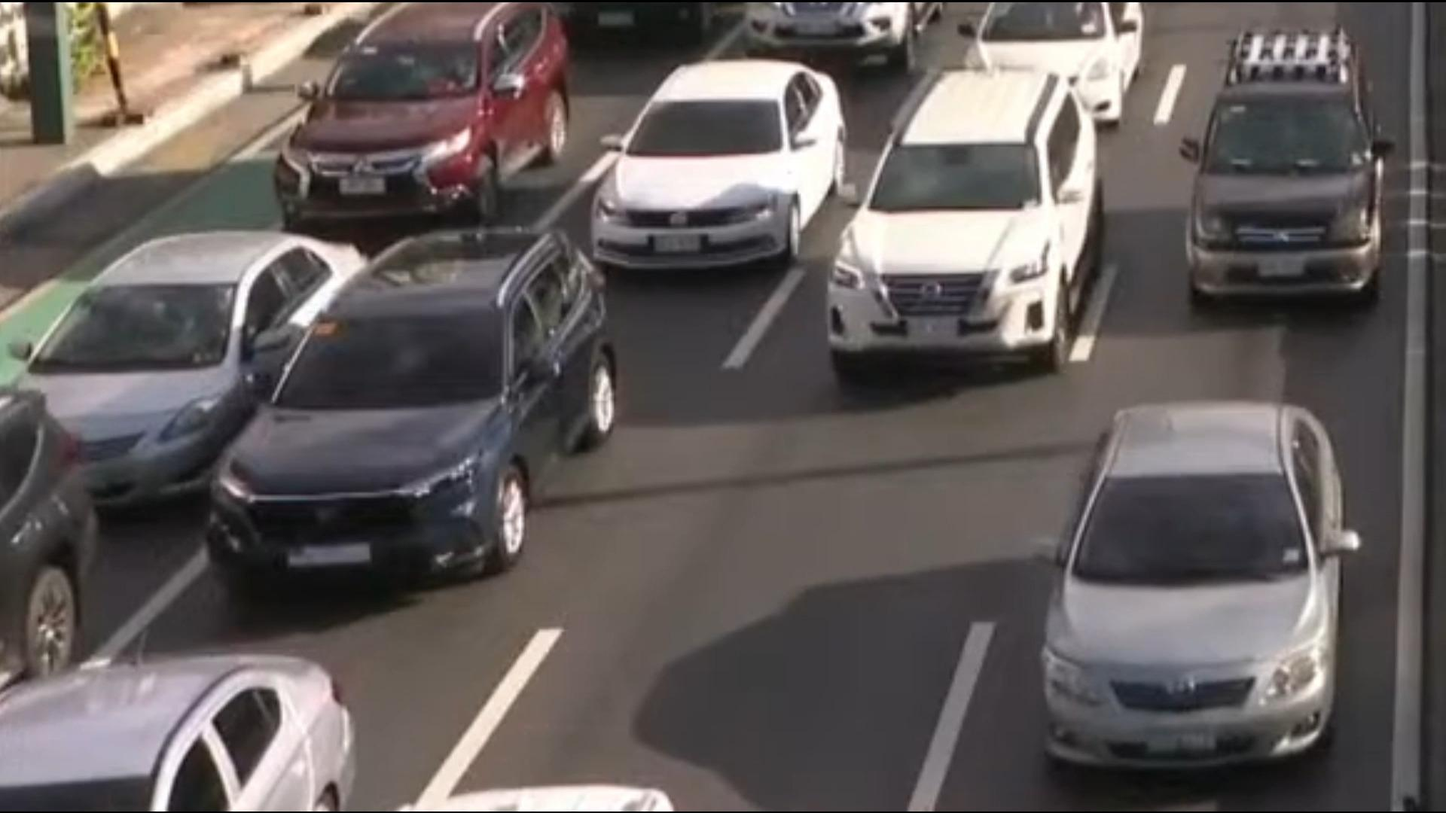SUV: (186, 221, 652, 615), (789, 59, 1149, 381), (256, 0, 610, 243), (1155, 19, 1412, 340)
Sedan: (962, 352, 1390, 798), (13, 189, 381, 515), (566, 46, 883, 286), (0, 627, 386, 813), (936, 0, 1171, 124)
